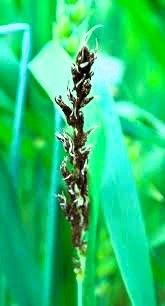Wheat Loose Smut: (50, 66, 100, 214)
